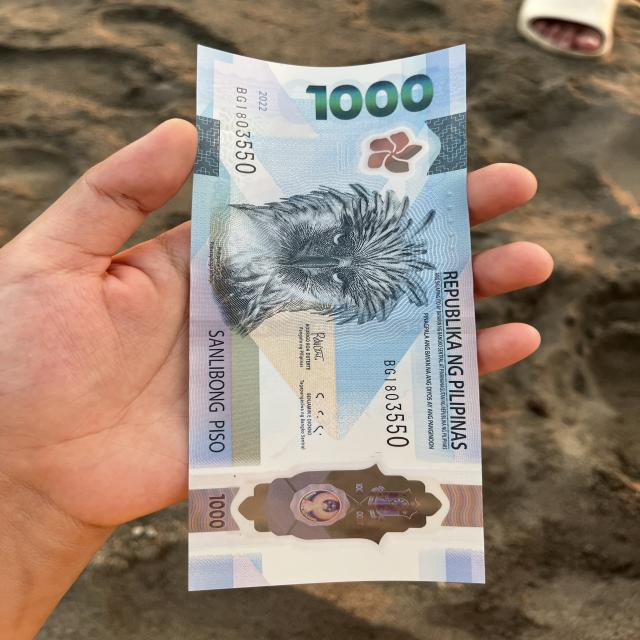clear_window: (178, 446, 484, 558)
eagle: (208, 184, 444, 342)
sampaguita: (351, 119, 430, 186)
